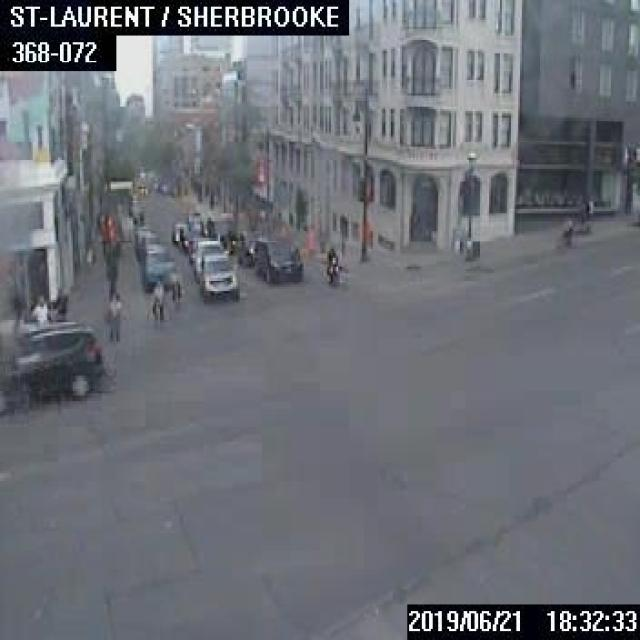pedestrian: (104, 287, 118, 340), (147, 277, 163, 323), (26, 294, 46, 326), (50, 285, 66, 319), (560, 209, 573, 247), (324, 246, 336, 282), (170, 275, 180, 302)
vehicle: (0, 320, 100, 411), (253, 237, 302, 281), (198, 252, 239, 300), (190, 238, 228, 282), (140, 250, 174, 290), (236, 229, 268, 266), (206, 212, 233, 236)
